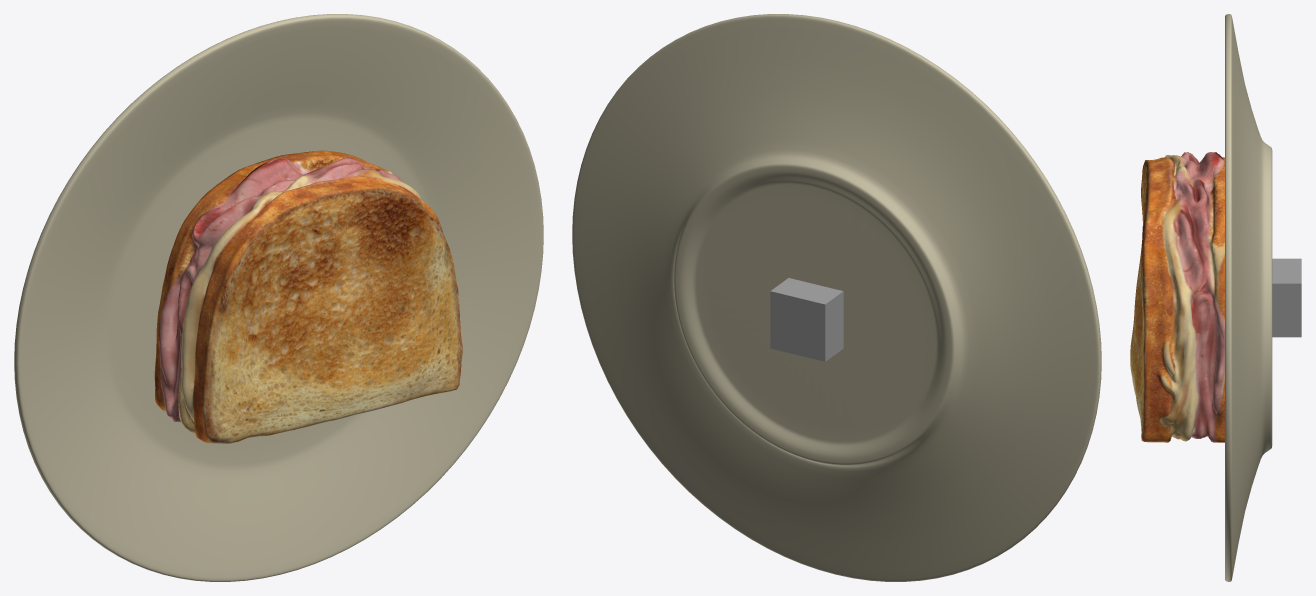
The model's file is realRuben.obj.
3 views of the same model, side by side, from view 1: azimuth 30°, elevation 25°; view 2: azimuth 150°, elevation 25°; view 3: azimuth 270°, elevation 25° (orthographic). The views are drawn at different scales.
Parts seen in each view (by area): view 1: 13931_Reuben_Sandwich_on_Plate_plate, 13931_Reuben_Sandwich_on_Plate_sandwich; view 2: 13931_Reuben_Sandwich_on_Plate_plate, Cube; view 3: 13931_Reuben_Sandwich_on_Plate_sandwich, 13931_Reuben_Sandwich_on_Plate_plate, Cube.
Boxes of the visible parts, x1=… form: 13931_Reuben_Sandwich_on_Plate_plate: x1=14, y1=14, x2=543, y2=581; 13931_Reuben_Sandwich_on_Plate_sandwich: x1=154, y1=150, x2=462, y2=443; 13931_Reuben_Sandwich_on_Plate_plate: x1=572, y1=14, x2=1101, y2=581; Cube: x1=770, y1=278, x2=843, y2=361; 13931_Reuben_Sandwich_on_Plate_sandwich: x1=1130, y1=152, x2=1224, y2=442; 13931_Reuben_Sandwich_on_Plate_plate: x1=1225, y1=14, x2=1272, y2=581; Cube: x1=1272, y1=258, x2=1301, y2=337.
Size of the model in its own units: 19.25 by 19.25 by 5.82.
Materials: 3 (1 with a texture image).
